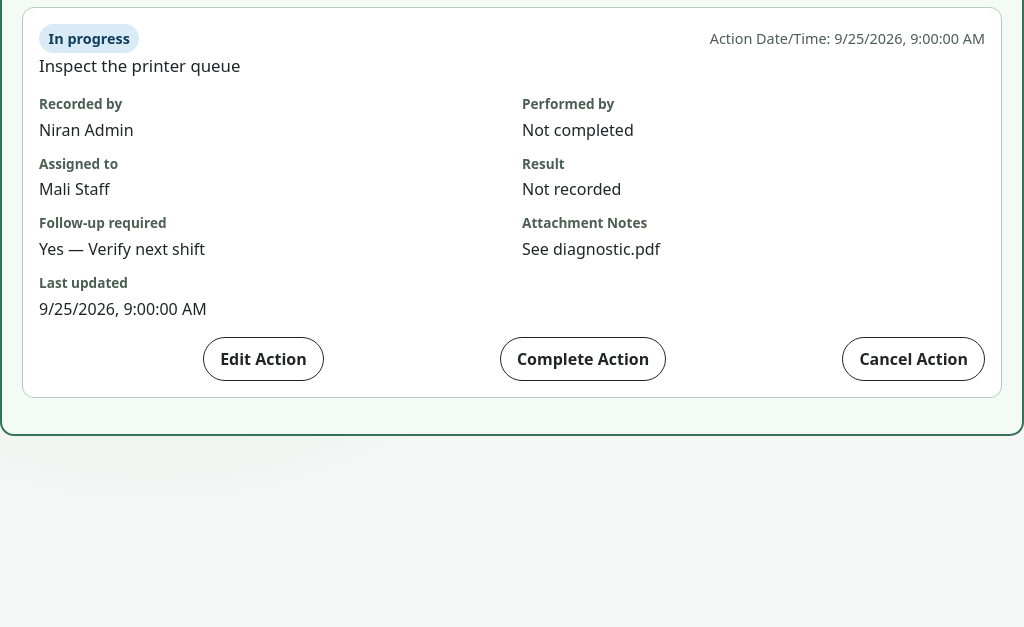
it: requires Result and cleared follow-up before completing or cancelling
Expected: the text "Inspect the printer queue" is shown, [39,54,240,77]
Step 1. Click the button "Complete Action" → click(583, 359), box [500,337,666,381]
(page scrolled)
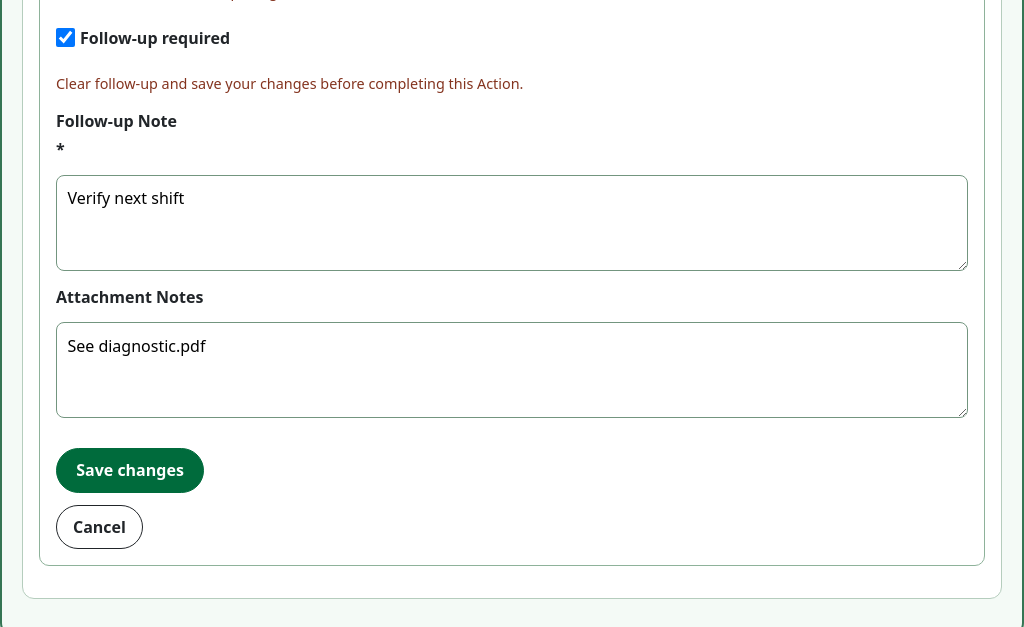
Step 2. Click the button "Cancel" → click(99, 527), box [56,505,143,549]
(page scrolled)
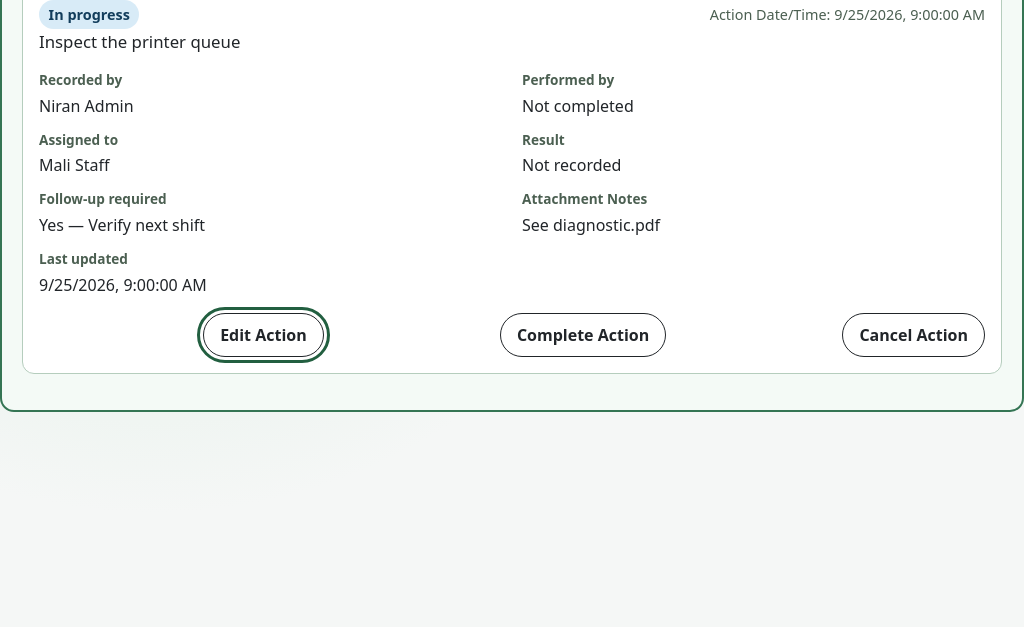
Step 3. Click the button "Cancel Action" → click(914, 335), box [842,313,985,357]
(page scrolled)
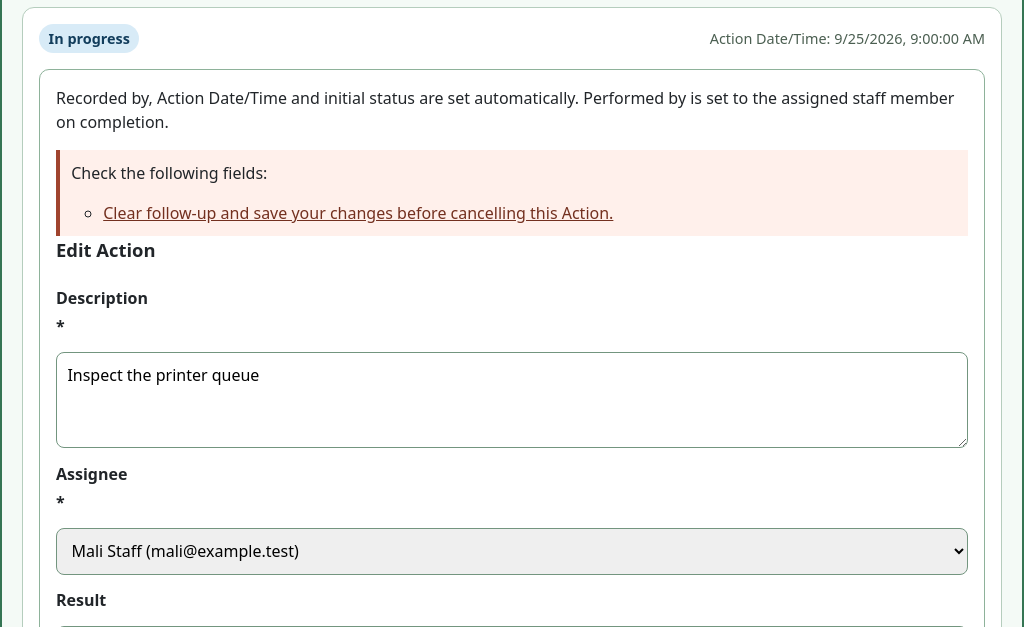
Expected: the message shows "follow-up", [103,202,613,224]
